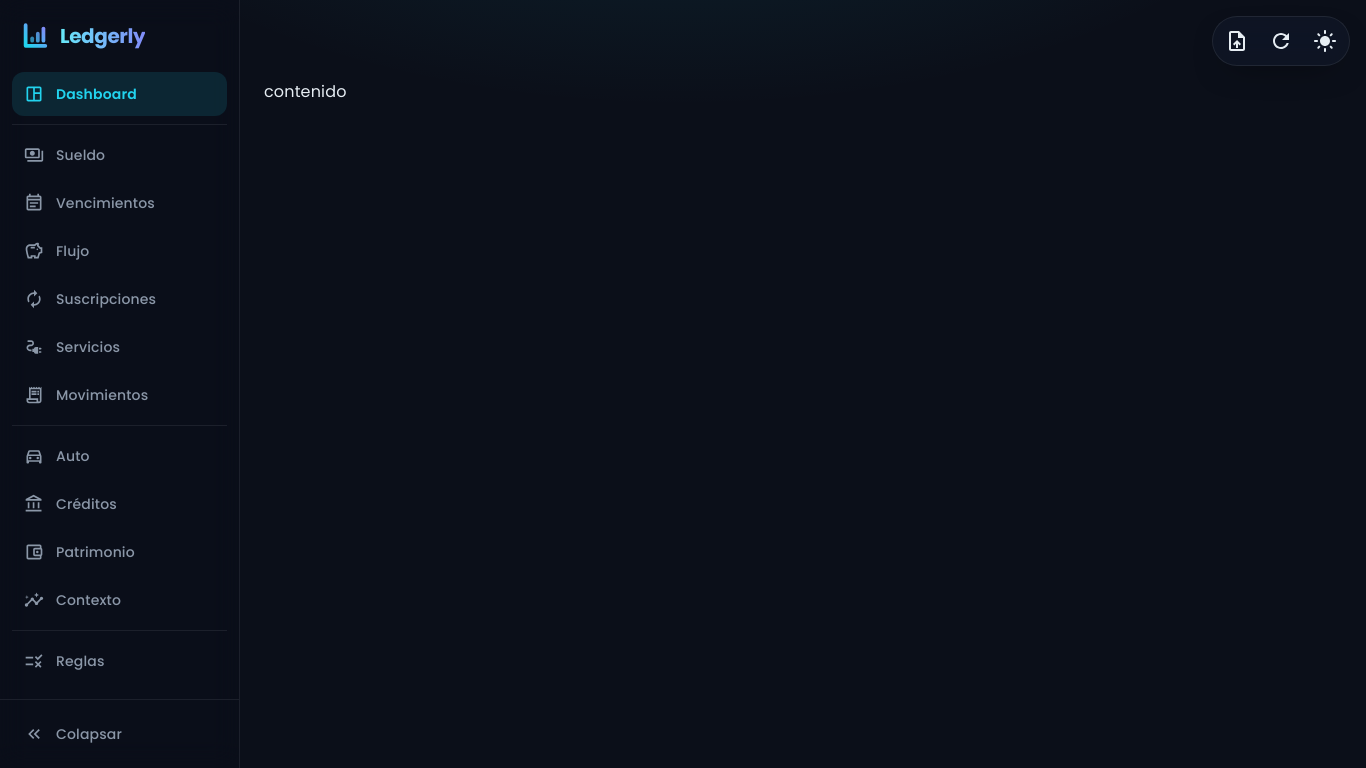
Test: Layout › expandir la sidebar vuelve a mostrar los textos
Click the button with aria-label "colapsar menú" at x=73, y=734, box x1=24 y1=724 x2=122 y2=744
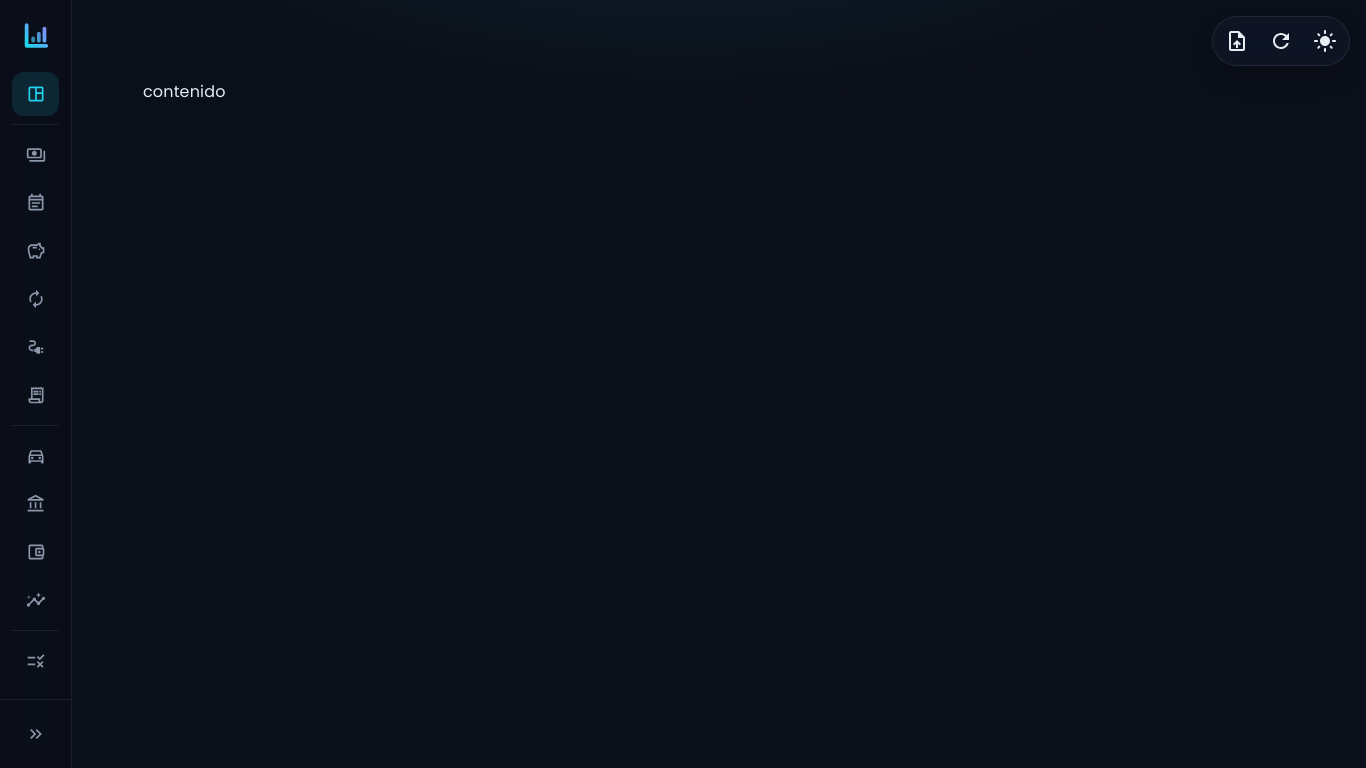
Click the button named "expandir menú" at x=36, y=734, box x1=26 y1=724 x2=46 y2=744
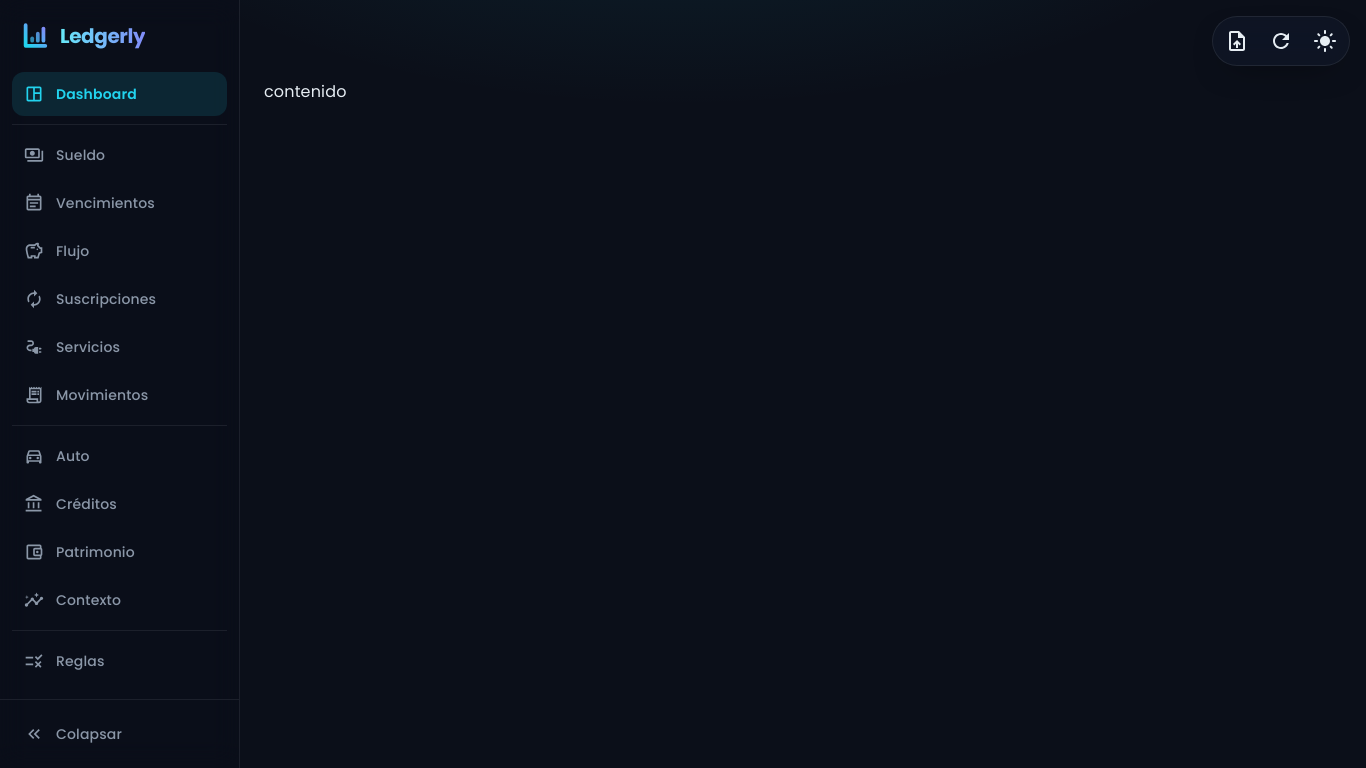
Now the text "Movimientos" is shown, box x1=56 y1=384 x2=148 y2=404
